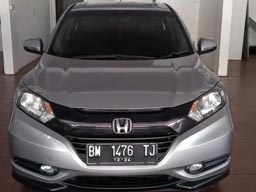plat: (86, 141, 157, 156)
